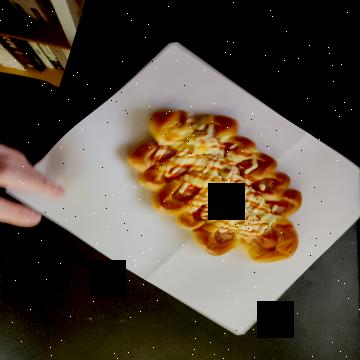pizza_bread: (110, 56, 261, 226)
